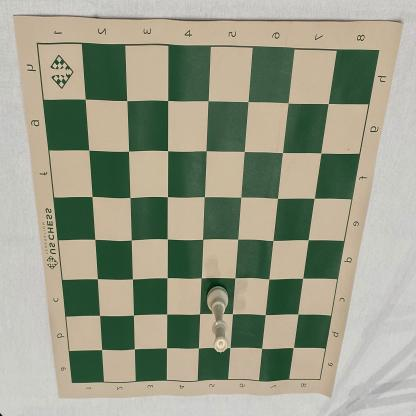white-queen: (207, 285, 229, 352)
